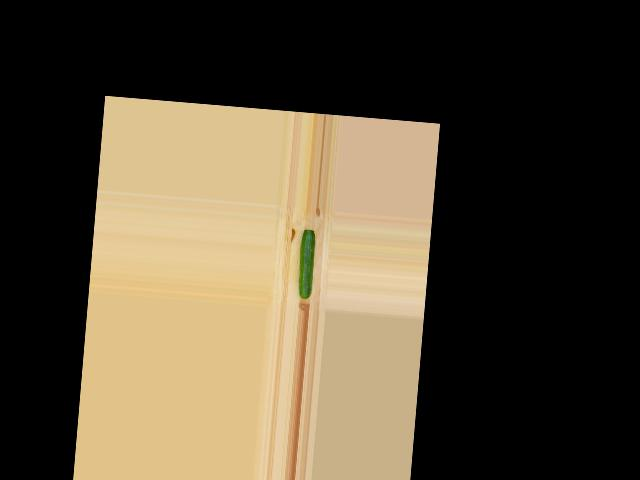cucumber: (296, 229, 316, 299)
